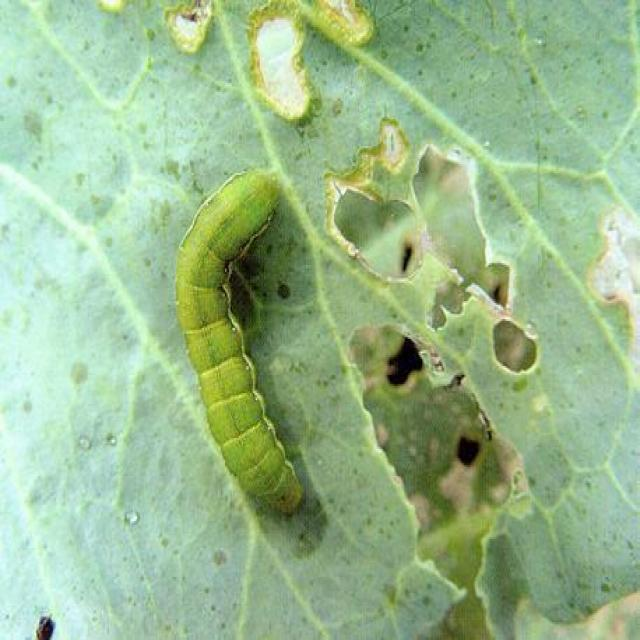BeetArmyWorm-Larva-: (160, 158, 315, 527)
